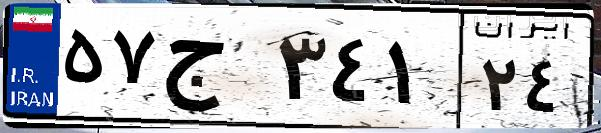1: (385, 28, 445, 110)
2: (475, 38, 525, 113)
3: (270, 28, 330, 110)
4: (330, 28, 385, 110), (525, 38, 570, 115)
5: (57, 26, 110, 100)
7: (110, 28, 158, 98)
ج: (158, 20, 270, 120)
